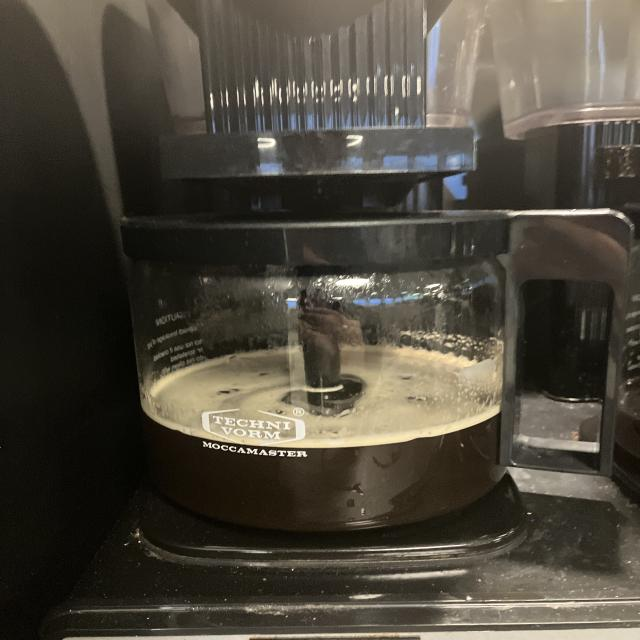coffee: (130, 209, 525, 527)
